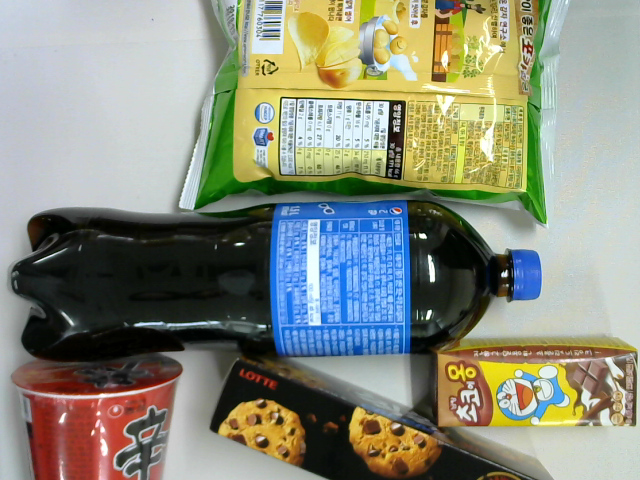Chicchok_Original_2400: (210, 355, 558, 480)
Choco_E_Mong: (431, 333, 640, 433)
Pepsi_Cola_1.5L: (5, 200, 543, 363)
Pocachip_Onion: (172, 1, 572, 229)
Sinramen_small: (11, 352, 188, 480)
